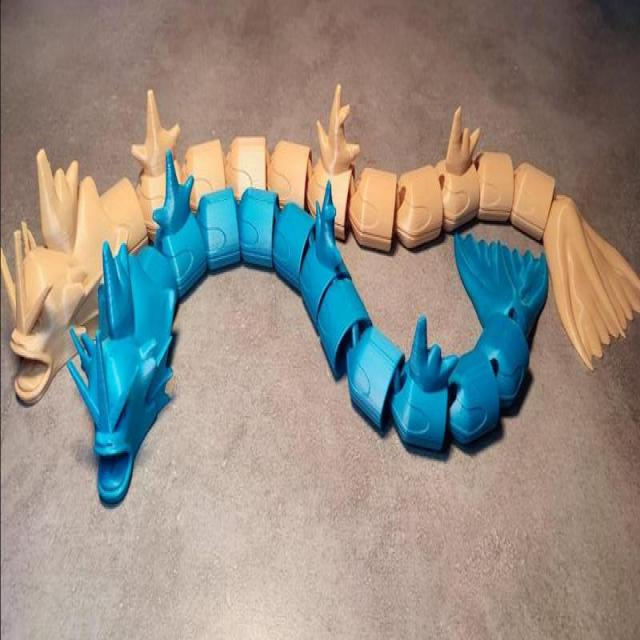Without deffect: (2, 47, 640, 494)
